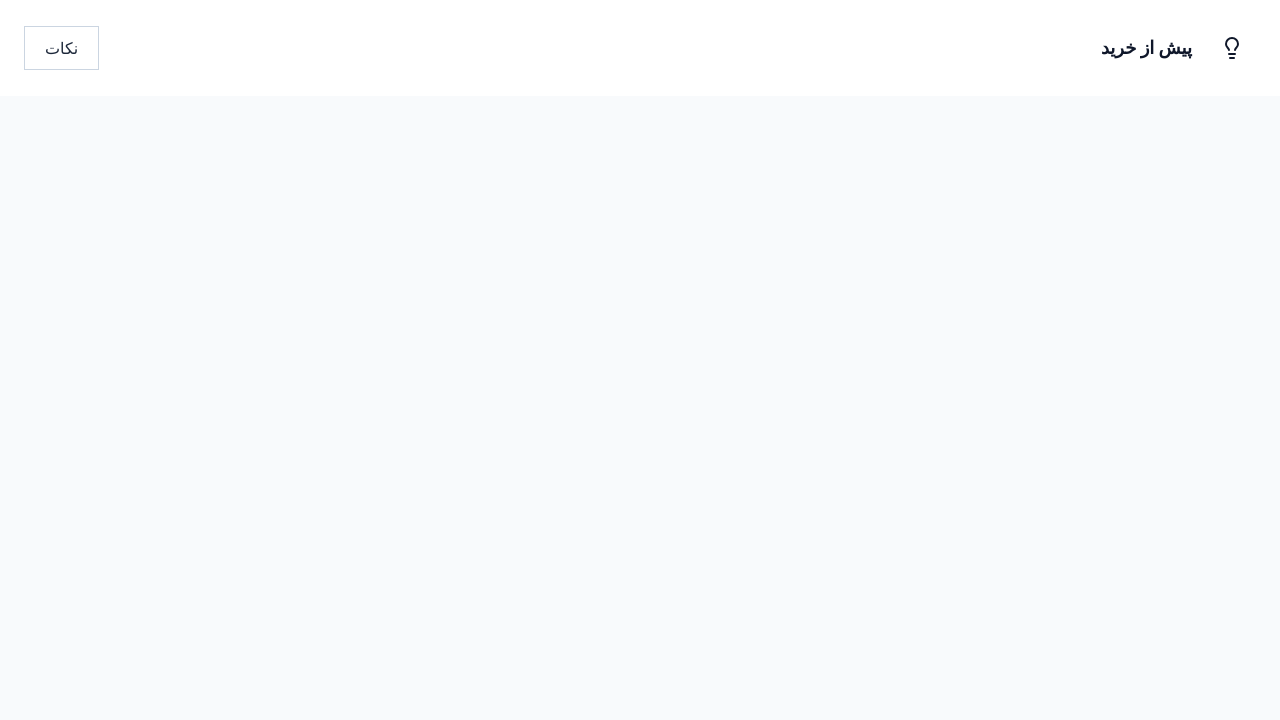
Test case: ConsiderBeforeBuying › opens the operator's text in a dialog from the operator's button
This screenshot has width=1280, height=720.
Expected: the heading "پیش از خرید" is shown, [1101,37,1192,58]
Click the button "نکات": (62, 48) [24,26,99,70]
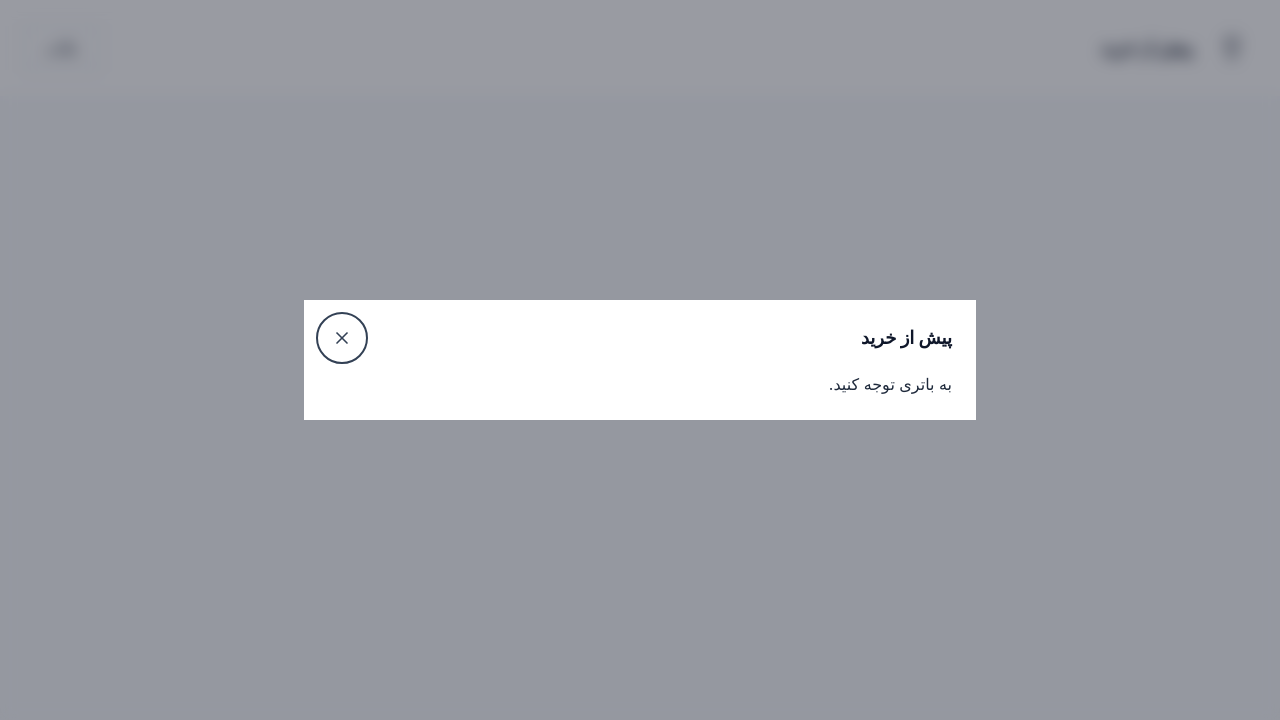
Expected: the text "به باتری توجه کنید." is shown, [829,374,952,394]
Press Escape
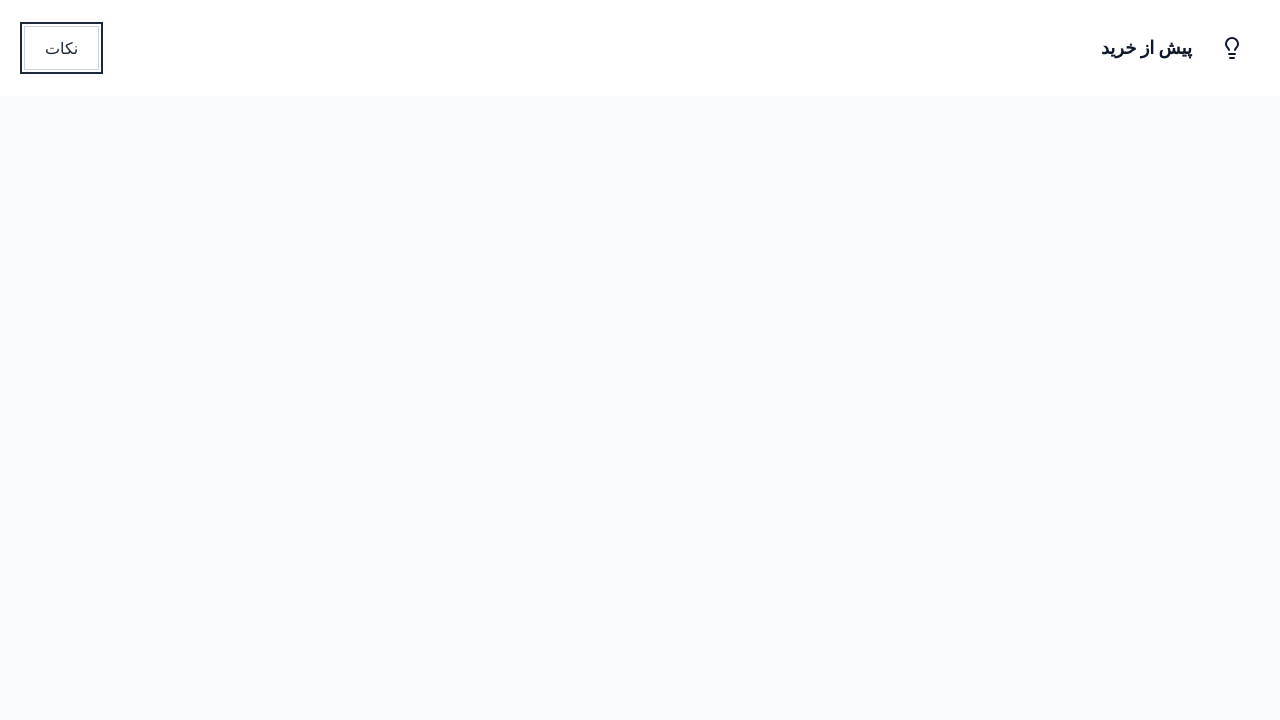
Expected: the dialog is gone
